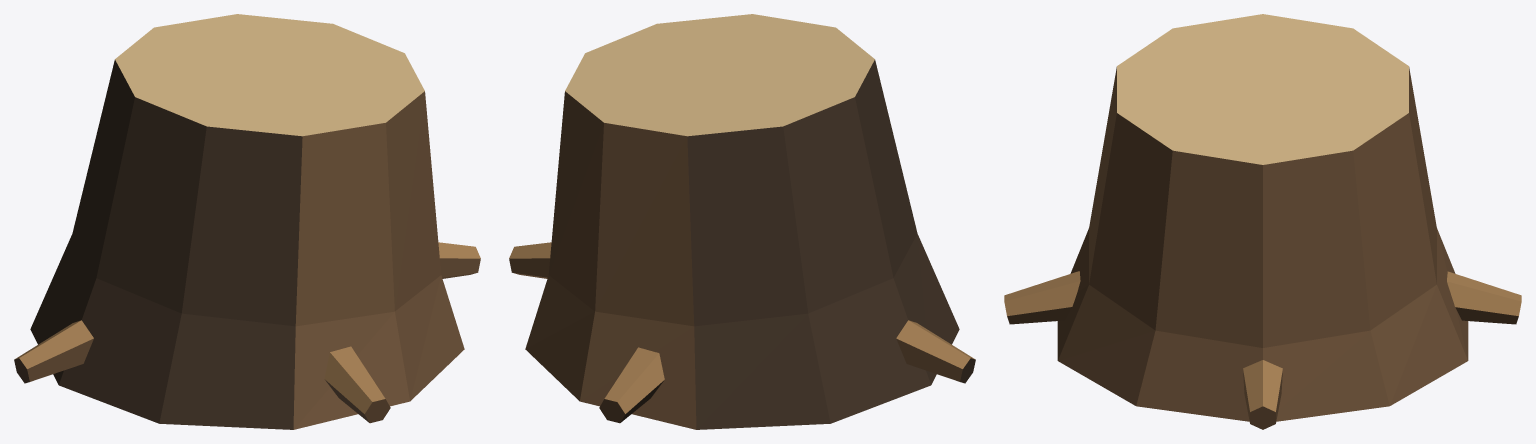
Rendered from TW_PROP_STUMP_ROUND_B_LOD0.glb.
The picture shows the model from 3 angles, left to right: view 1: azimuth 30°, elevation 25°; view 2: azimuth 150°, elevation 25°; view 3: azimuth 270°, elevation 25°; orthographic projection.
Visible parts, largest first — view 1: TW_PROP_STUMP_ROUND_B_LOD0; view 2: TW_PROP_STUMP_ROUND_B_LOD0; view 3: TW_PROP_STUMP_ROUND_B_LOD0.
Part boxes in pixels (left/top/right/bottom): TW_PROP_STUMP_ROUND_B_LOD0: left=14, top=14, right=480, bottom=429; TW_PROP_STUMP_ROUND_B_LOD0: left=509, top=14, right=975, bottom=429; TW_PROP_STUMP_ROUND_B_LOD0: left=1004, top=14, right=1521, bottom=429.
Size of the model in its own units: 1.22 by 0.6881 by 1.22.
1 material, 1 textured.
